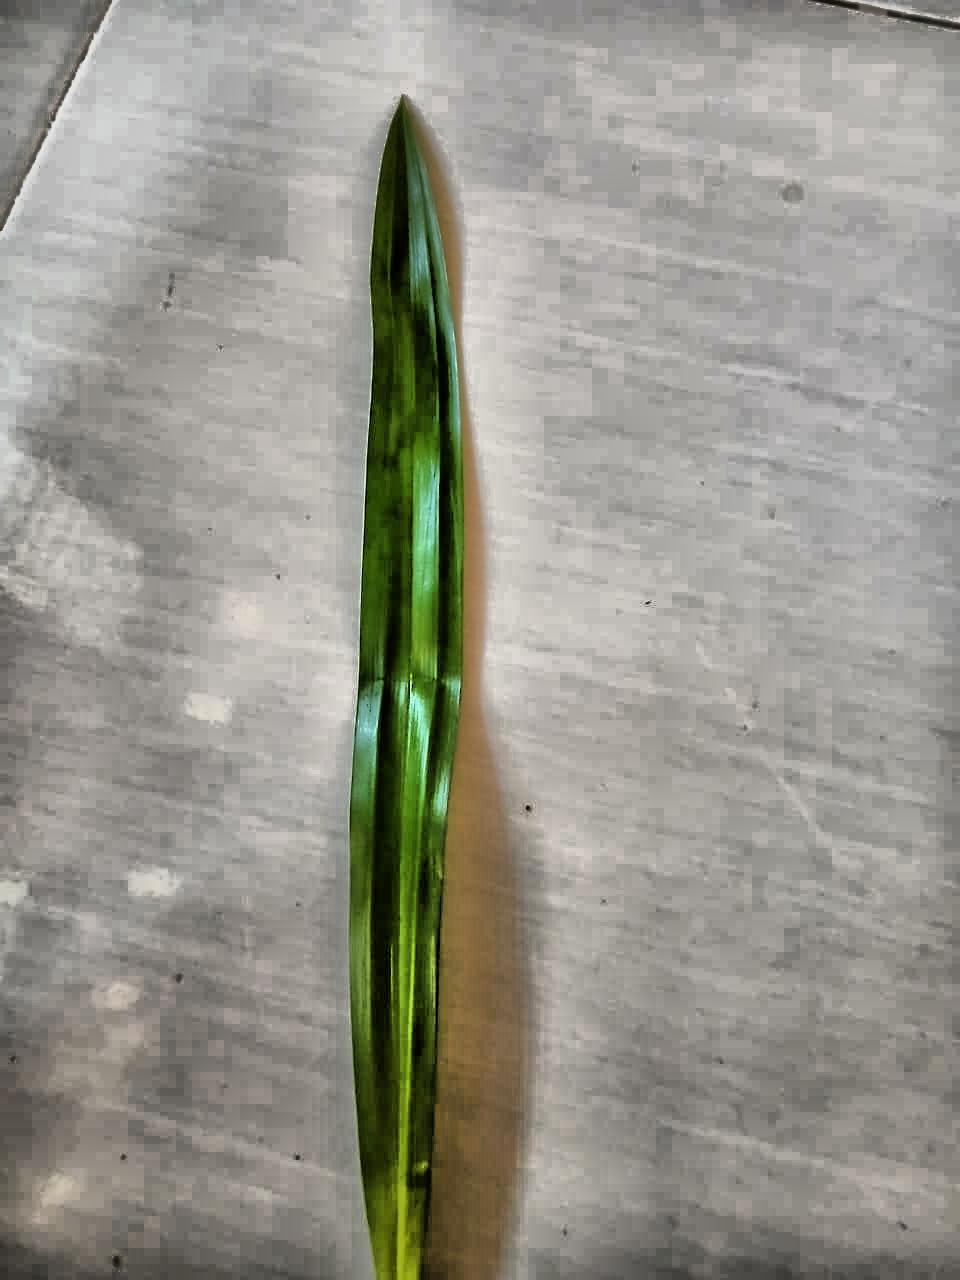daun pandan: (349, 98, 464, 1279)
